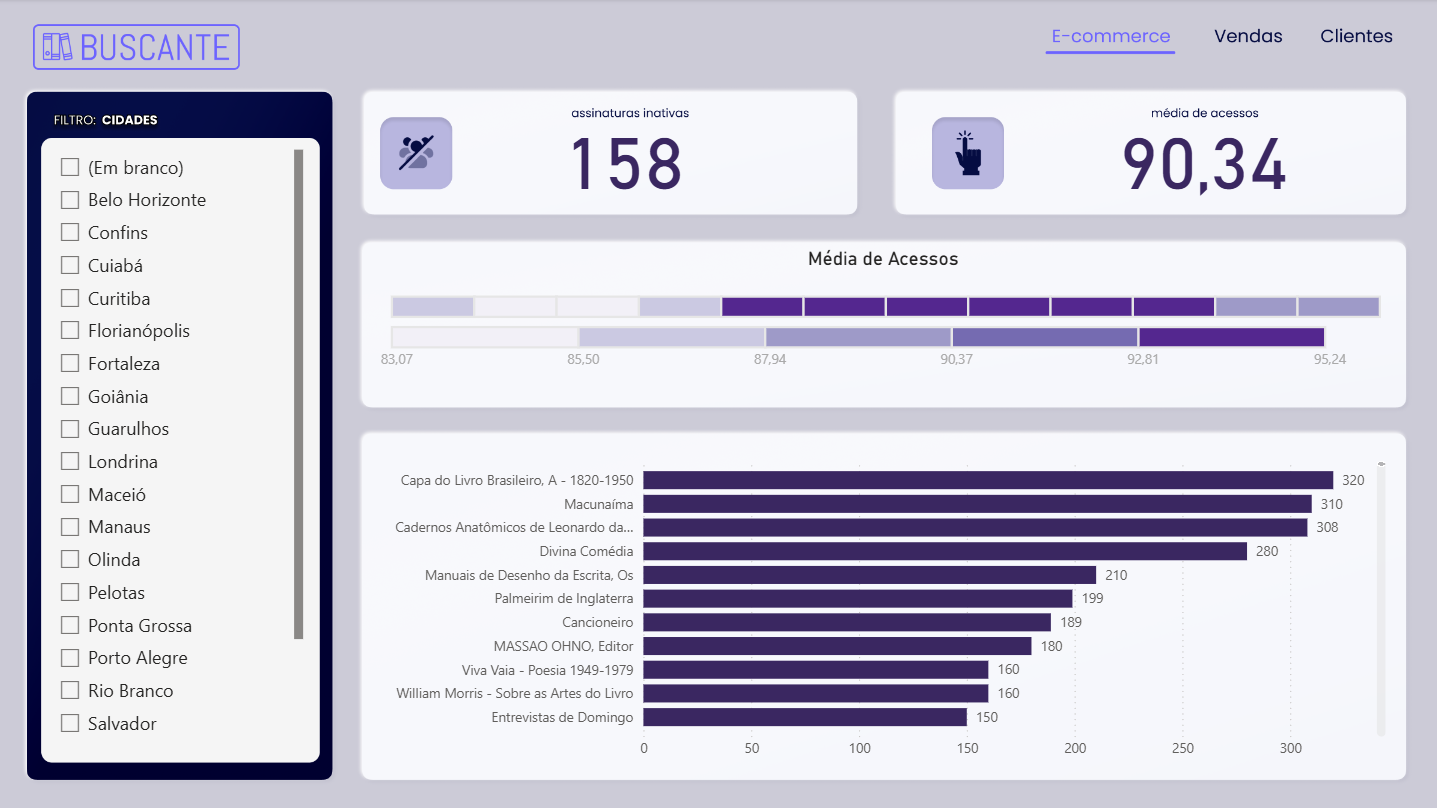

Layout of this report page (visuals, bound fields, positions):
{"tool":"powerbi","page":{"name":"E-commerce","canvas":[1280,720],"ordinal":0},"visuals":[{"type":"slicer","fields":{"Values":["Clientes.Cidade"]},"box":[43,128.9,233.5,536.6],"z":0},{"type":"card","fields":{"Values":["CountNonNull(Clientes.Assinatura ativa)"]},"box":[468.1,110.3,173.1,75.5],"z":1000},{"type":"card","fields":{"Values":["Avg(Acessos na página.Acessos)"]},"box":[982.6,110.3,173.1,75.5],"z":2000},{"type":"TableHeatMap1443716069308","title":"Média de Acessos","fields":{"Y":["Avg(Acessos na página.Acessos)"],"Category":["Acessos na página.Data.Variation.Hierarquia de datas.Mês"]},"box":[334.5,219.5,901.3,140.5],"z":2001},{"type":"clusteredBarChart","fields":{"Category":["Catálogo livros.Titulo"],"Y":["Sum(Catálogo livros.Valor)"]},"box":[334.5,397.2,901.3,285.7],"z":2002},{"type":"actionButton","box":[1058.1,12.8,99.9,43],"z":2005},{"type":"actionButton","box":[1158,12.8,99.9,43],"z":2006}]}

Visuals, with their boxes in screenshot pixels (x1, y1, x2, y2), scaled from the page's 1280x720 canvas onto the 1437x808 screenshot:
slicer - Clientes.Cidade: (48, 145, 310, 747)
card - CountNonNull(Clientes.Assinatura ativa): (526, 124, 720, 209)
card - Avg(Acessos na página.Acessos): (1103, 124, 1297, 209)
"Média de Acessos" TableHeatMap1443716069308: (376, 246, 1387, 404)
clusteredBarChart - Catálogo livros.Titulo x Sum(Catálogo livros.Valor): (376, 446, 1387, 766)
actionButton: (1188, 14, 1300, 63)
actionButton: (1300, 14, 1412, 63)
